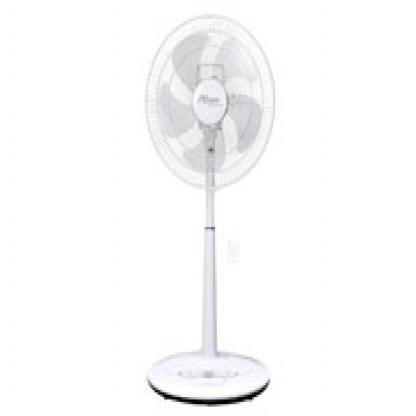fan: (138, 9, 290, 411)
